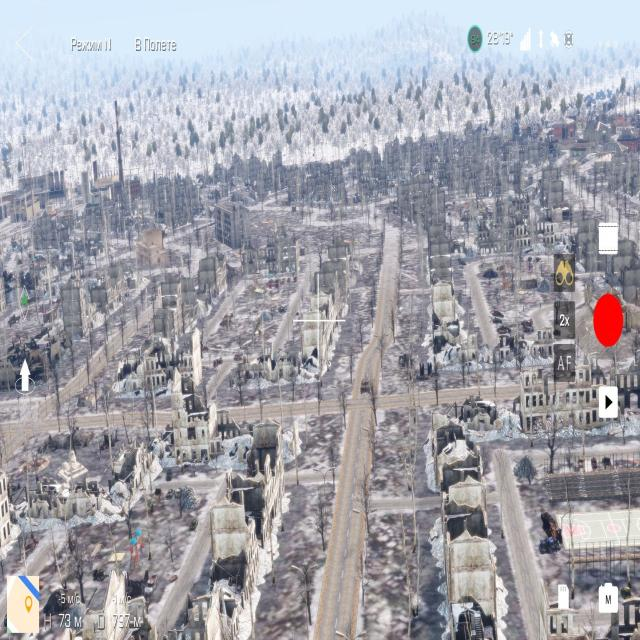fortification: (431, 505, 509, 636), (204, 486, 263, 637), (516, 350, 616, 439), (163, 370, 241, 466), (428, 438, 496, 533), (234, 415, 282, 547), (94, 427, 163, 513), (425, 272, 485, 370), (16, 468, 104, 526), (421, 384, 508, 438), (492, 328, 573, 373), (428, 400, 480, 468)
vehicle: (532, 509, 564, 564), (155, 479, 187, 506), (355, 368, 378, 405), (137, 576, 163, 604), (575, 451, 616, 468), (88, 562, 109, 594), (185, 512, 203, 538), (208, 346, 226, 370)
